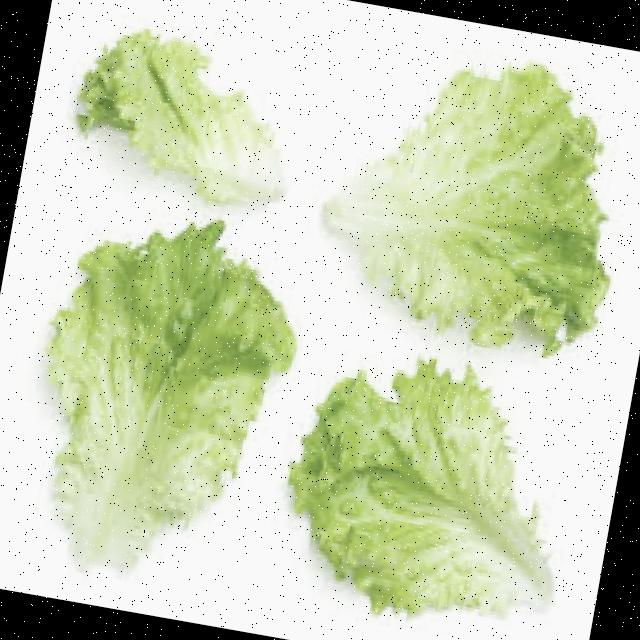healthy: (29, 237, 272, 584), (334, 88, 611, 346), (309, 378, 564, 638)
